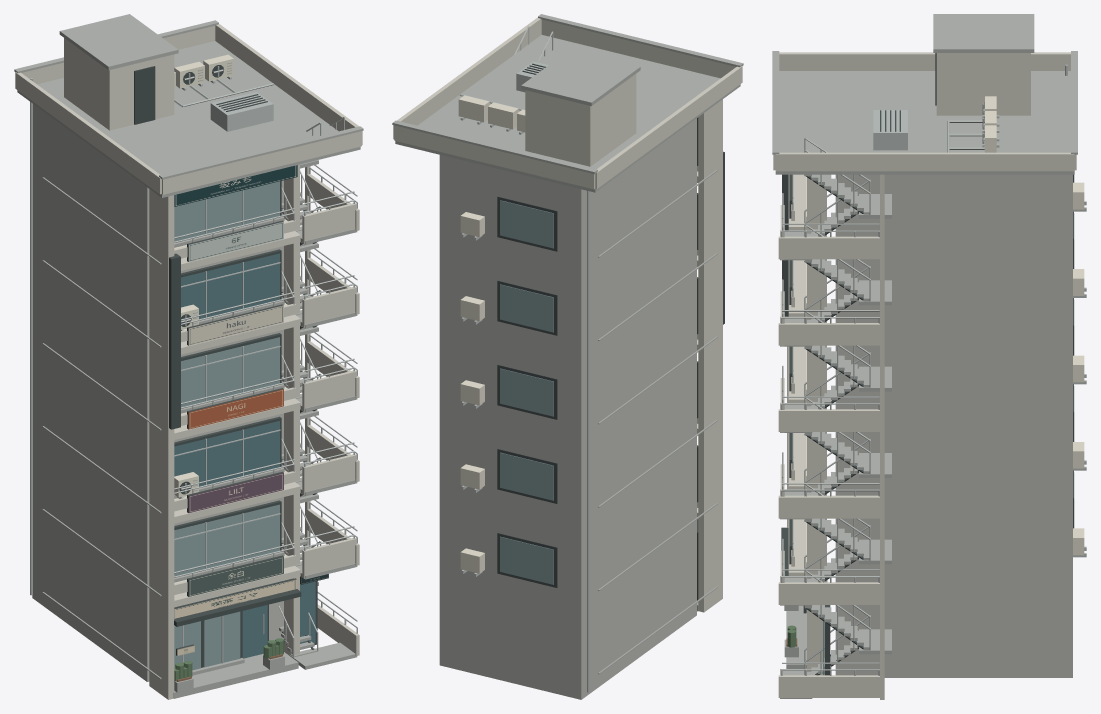
Rendered from dogenzaka-sakamichi-a.glb.
The picture shows the model from 3 angles, left to right: view 1: azimuth 30°, elevation 25°; view 2: azimuth 150°, elevation 25°; view 3: azimuth 270°, elevation 25°; orthographic projection. The views are drawn at different scales.
Parts seen in each view (by area): view 1: dogenzaka-sakamichi-a; view 2: dogenzaka-sakamichi-a; view 3: dogenzaka-sakamichi-a.
Boxes of the visible parts, box(x1,y1,x2,y2) form: dogenzaka-sakamichi-a: box(14, 14, 363, 699); dogenzaka-sakamichi-a: box(392, 14, 743, 699); dogenzaka-sakamichi-a: box(772, 14, 1086, 699).
Size of the model in its own units: 8.34 by 22.74 by 10.85.
Materials: 11 (1 with a texture image).
